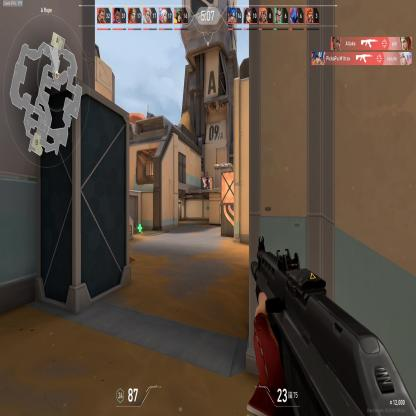enemy: (205, 172, 209, 190)
